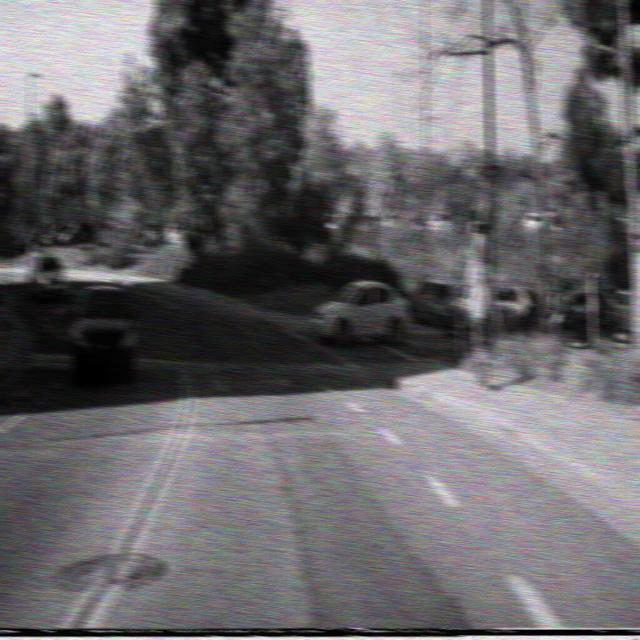pedestrianCrossing: (13, 214, 27, 238)
stop: (441, 164, 472, 221)
